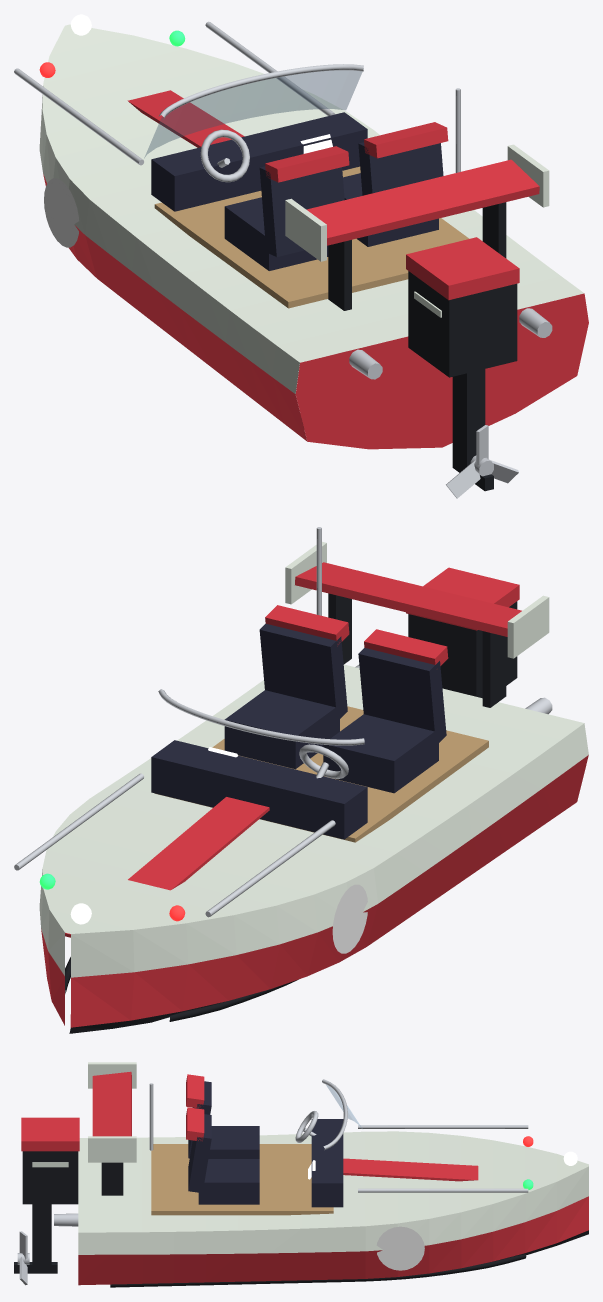
The model's file is boat.glb.
3 views of the same model, one above another, from view 1: azimuth 30°, elevation 25°; view 2: azimuth 150°, elevation 25°; view 3: azimuth 270°, elevation 25° (orthographic). The views are drawn at different scales.
Visible parts, largest first — view 1: Deck, Transom, Cockpit_Floor, Hull_Stripe, Dashboard, Spoiler_Wing, Engine_Cowl, Hull_Side, Windshield, Seat_Back (×2), Engine_Cap, Seat_Base (×2) (+11 smaller); view 2: Deck, Hull_Side, Hull_Stripe, Seat_Base (×2), Dashboard, Seat_Back (×2), Spoiler_Wing, Deck_Stripe, Cockpit_Floor, Engine_Cowl, Seat_Trim (×2), Spoiler_Endplate (×2) (+8 smaller); view 3: Deck, Hull_Side, Hull_Stripe, Cockpit_Floor, Seat_Base (×2), Engine_Cowl, Dashboard, Spoiler_Wing, Deck_Stripe, Spoiler_Endplate (×2), Engine_Cap, Number_Plate (+11 smaller).
Part boxes in pixels (left/top/right/bottom): Deck: left=42, top=24, right=583, bottom=362; Transom: left=295, top=293, right=588, bottom=449; Cockpit_Floor: left=154, top=166, right=469, bottom=308; Hull_Stripe: left=39, top=86, right=299, bottom=393; Dashboard: left=151, top=112, right=367, bottom=211; Spoiler_Wing: left=306, top=159, right=539, bottom=245; Engine_Cowl: left=408, top=271, right=517, bottom=377; Hull_Side: left=43, top=174, right=307, bottom=441; Windshield: left=144, top=68, right=363, bottom=157; Seat_Back (×2): left=259, top=142, right=443, bottom=256; Engine_Cap: left=406, top=237, right=519, bottom=300; Seat_Base (×2): left=224, top=173, right=438, bottom=270; Deck: left=42, top=664, right=583, bottom=933; Hull_Side: left=41, top=755, right=588, bottom=1027; Hull_Stripe: left=39, top=723, right=588, bottom=977; Seat_Base (×2): left=224, top=690, right=438, bottom=793; Dashboard: left=151, top=740, right=367, bottom=839; Seat_Back (×2): left=259, top=623, right=446, bottom=745; Spoiler_Wing: left=295, top=562, right=521, bottom=636; Deck_Stripe: left=65, top=797, right=269, bottom=937; Cockpit_Floor: left=155, top=706, right=488, bottom=842; Engine_Cowl: left=408, top=601, right=517, bottom=698; Seat_Trim (×2): left=265, top=605, right=448, bottom=665; Spoiler_Endplate (×2): left=285, top=541, right=549, bottom=658; Deck: left=78, top=1131, right=588, bottom=1232; Hull_Side: left=78, top=1196, right=588, bottom=1285; Hull_Stripe: left=78, top=1166, right=588, bottom=1254; Cockpit_Floor: left=151, top=1144, right=333, bottom=1215; Seat_Base (×2): left=198, top=1126, right=259, bottom=1204; Engine_Cowl: left=22, top=1151, right=78, bottom=1204; Dashboard: left=311, top=1119, right=343, bottom=1207; Spoiler_Wing: left=92, top=1071, right=131, bottom=1136; Deck_Stripe: left=343, top=1158, right=478, bottom=1181; Spoiler_Endplate (×2): left=88, top=1062, right=136, bottom=1162; Engine_Cap: left=21, top=1117, right=79, bottom=1151; Number_Plate: left=376, top=1226, right=424, bottom=1270.
Size of the model in its own units: 1.9 by 1.96 by 4.73.
